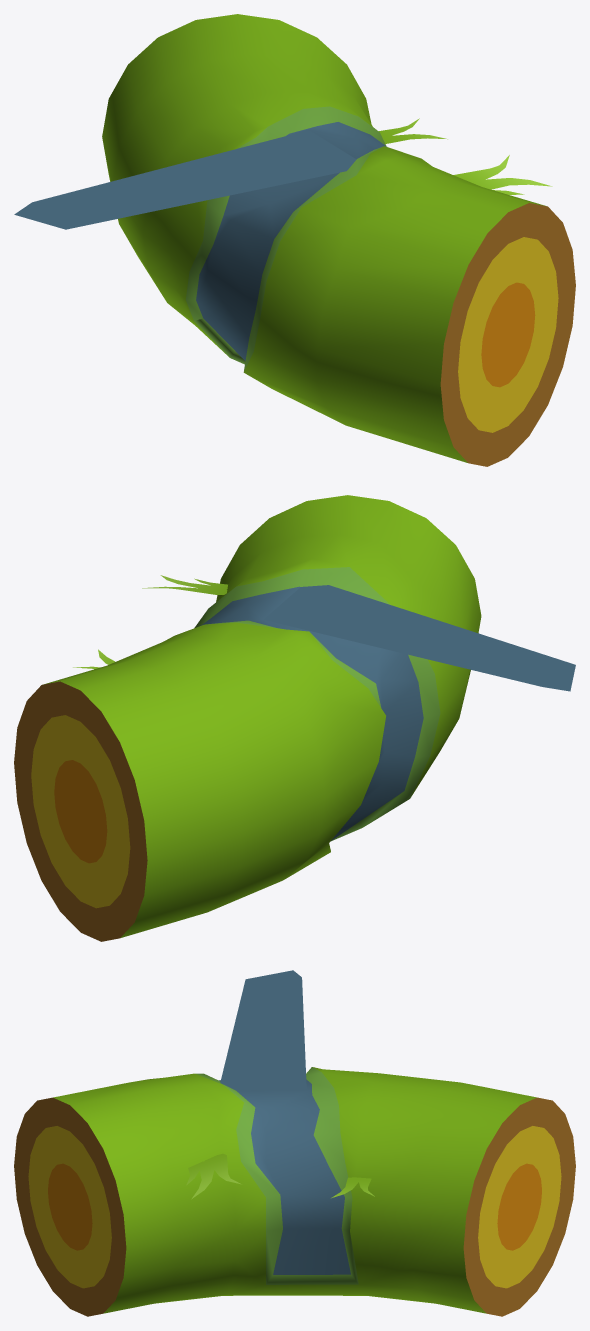
Rendered from Station_Segment_04.fbx.
3 views of the same model, one above another, from view 1: azimuth 30°, elevation 25°; view 2: azimuth 150°, elevation 25°; view 3: azimuth 270°, elevation 25° (orthographic). The views are drawn at different scales.
Visible parts, largest first — view 1: Station_Segment_04_Full; view 2: Station_Segment_04_Full; view 3: Station_Segment_04_Full.
Boxes of the visible parts, x1,y1,x2,y2 form: Station_Segment_04_Full: [14, 14, 575, 466]; Station_Segment_04_Full: [14, 495, 575, 941]; Station_Segment_04_Full: [14, 970, 575, 1316].
Bounding box in the file's own units: 814 × 406 × 1000.
Materials: 2 (1 with a texture image).
